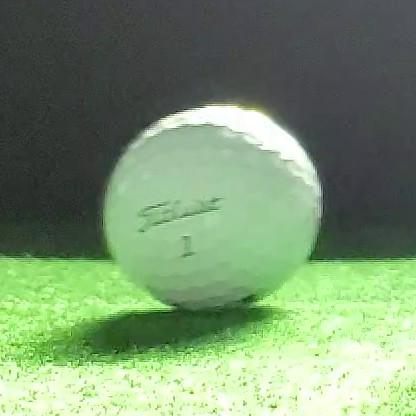golfball: (104, 106, 321, 309)
